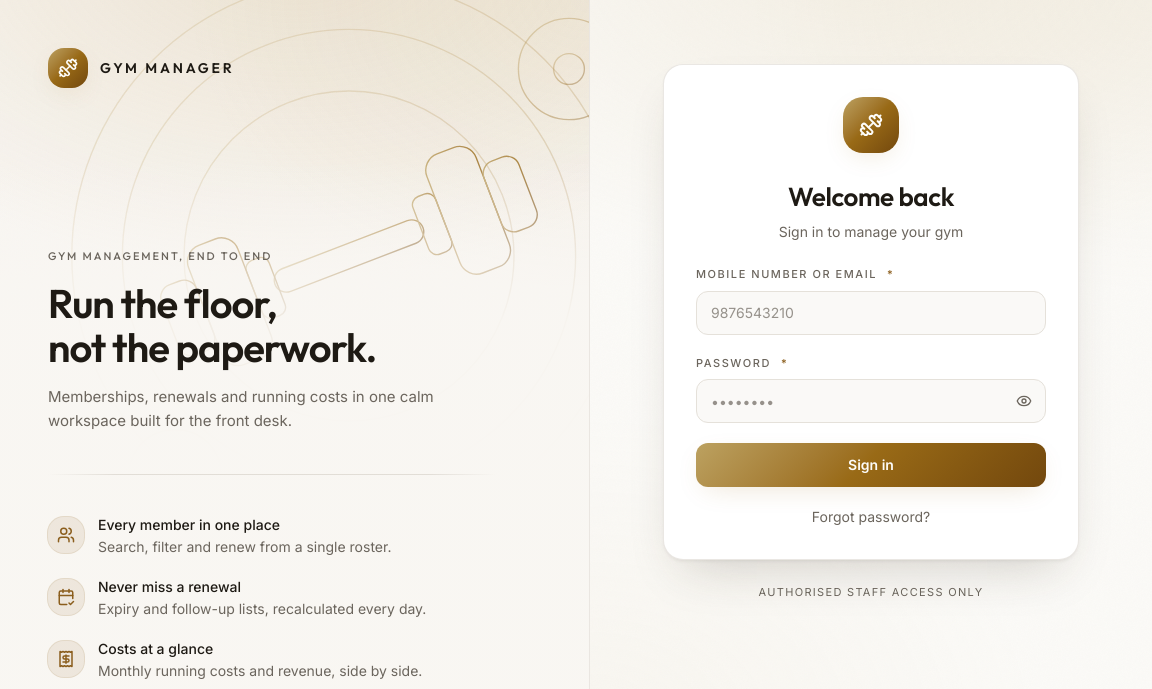
Test: LoginPage › shows the server message when credentials are rejected
Type "admin@gym.com" into the field labelled "Mobile number or email *" at (871, 312), box [696,290,1046,334]
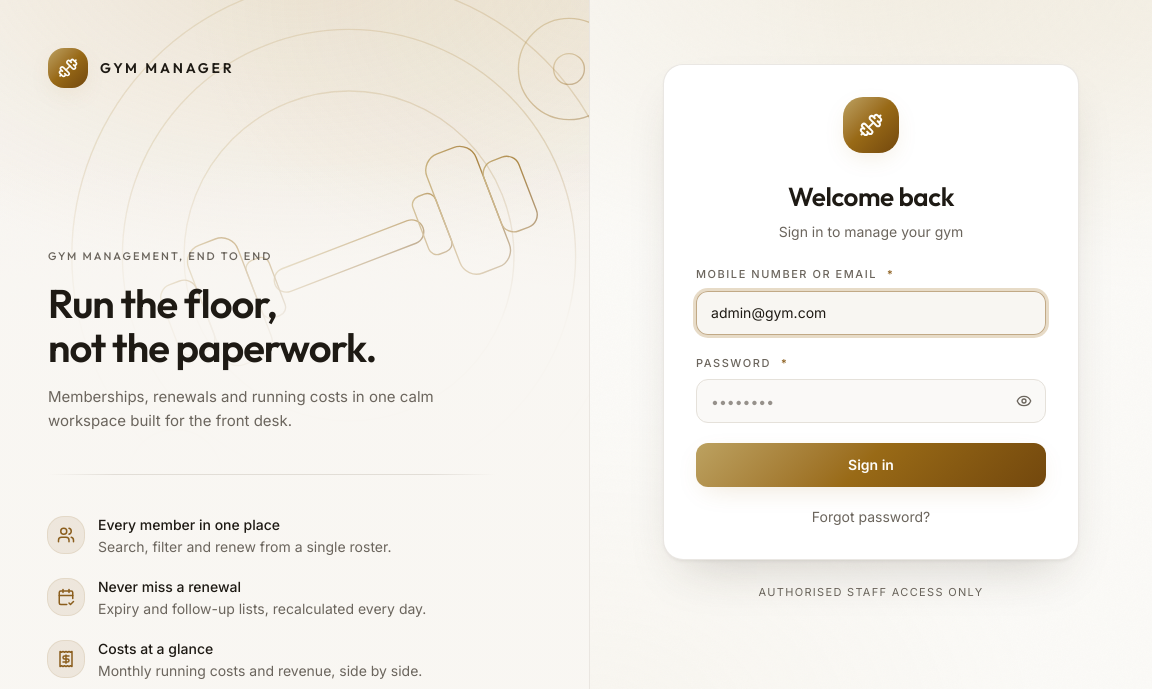
Type "WrongPass1" into the password field labelled "Password *" at (871, 401), box [696,379,1046,423]
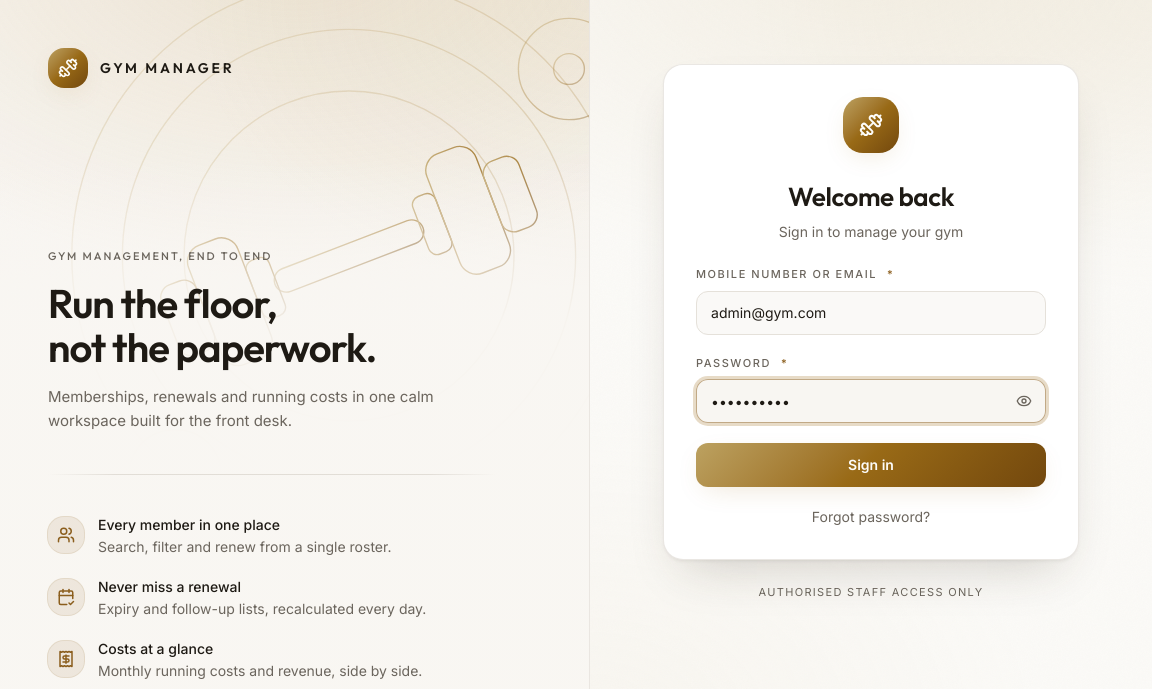
Click the button "Sign in" at (871, 465), box [696,443,1046,487]
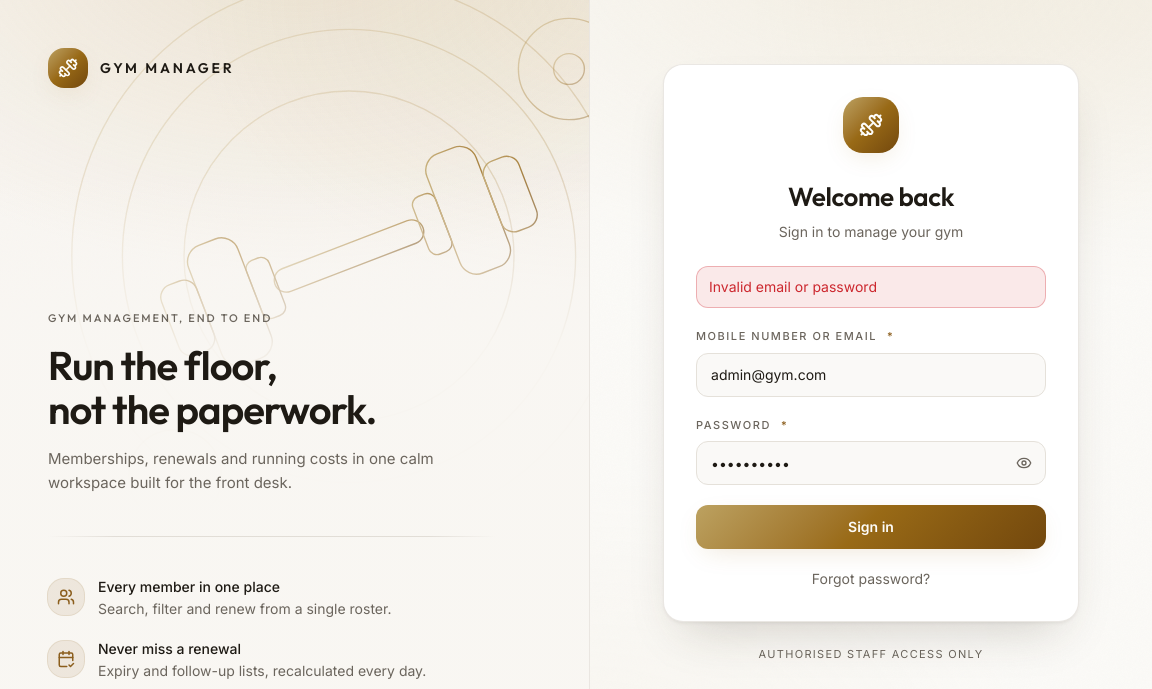
Expected: the message reads "Invalid email or password", [709,278,877,295]
